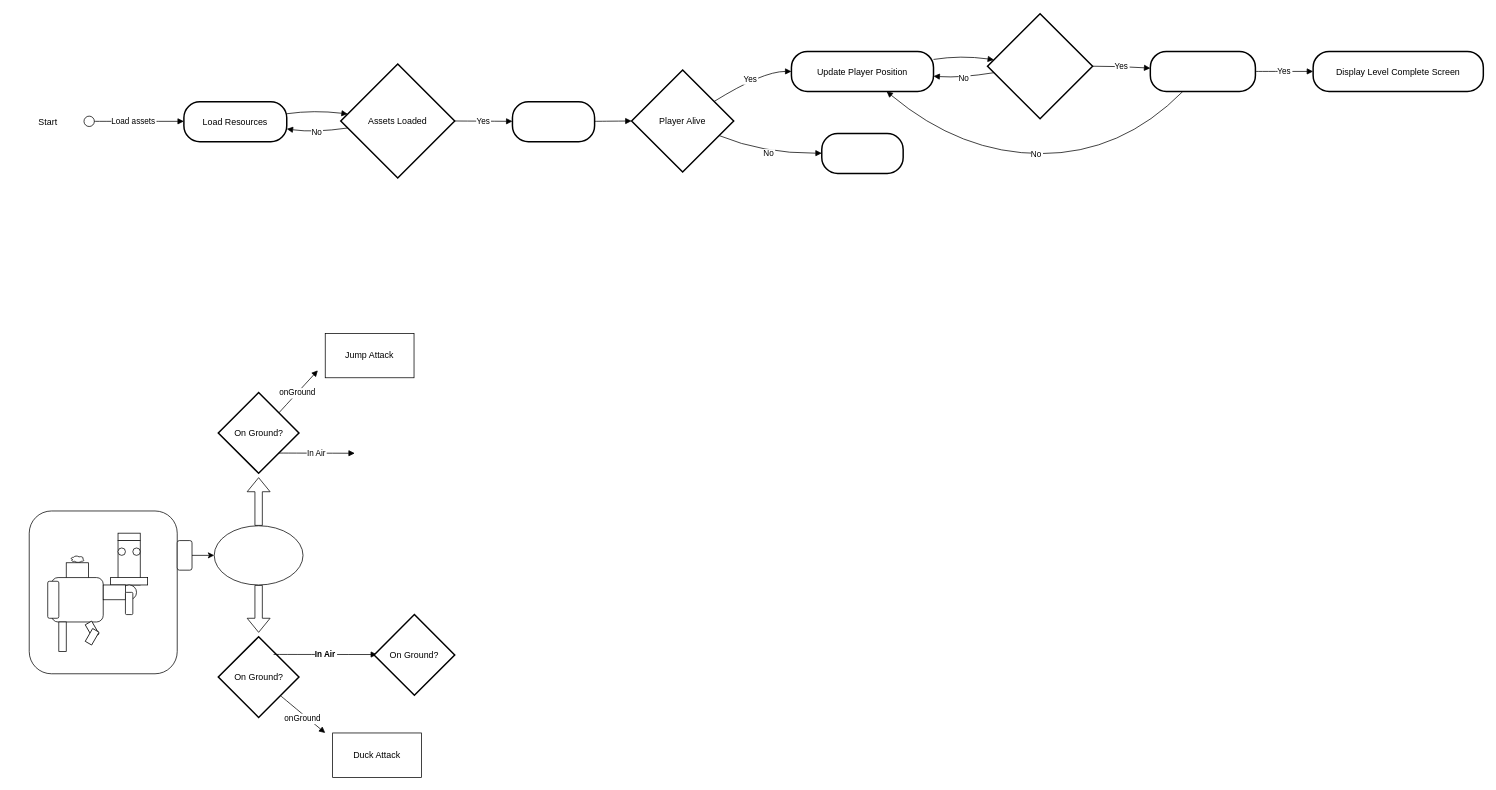
Some shapes in this 1496 by 790 pixel diagram are drawn without their labels. The shapes that lost their labels are listed below. From the top down, each one's centre as x and y in pixels, then its label:
At point (1039, 66): "End of Level".
At point (1202, 71): "Level Complete".
At point (553, 121): "Game Start".
At point (862, 153): "Game Over".
At point (258, 555): "Twist Dial Up or Down?".
